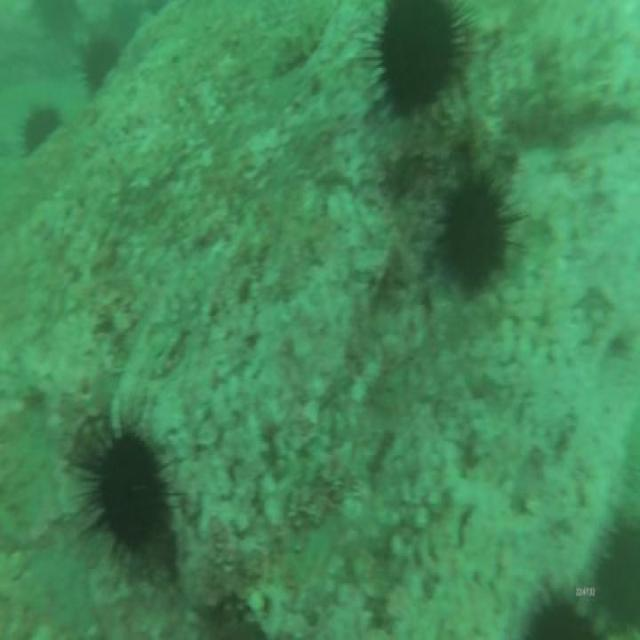echinus: (86, 416, 171, 560), (369, 0, 469, 122), (434, 164, 514, 302), (591, 510, 640, 640), (522, 581, 601, 640), (80, 35, 121, 90), (22, 103, 59, 153), (33, 0, 77, 38)
holothurian: (268, 11, 328, 89)
